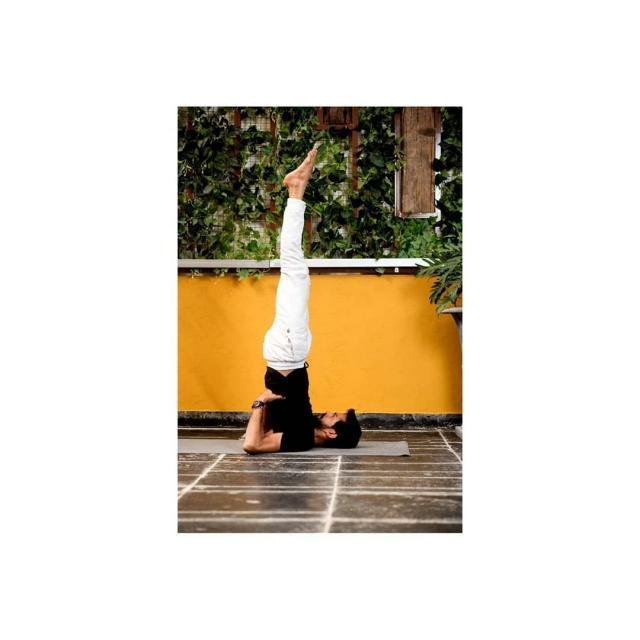yoga-pose shoulderstand: (244, 140, 360, 460)
